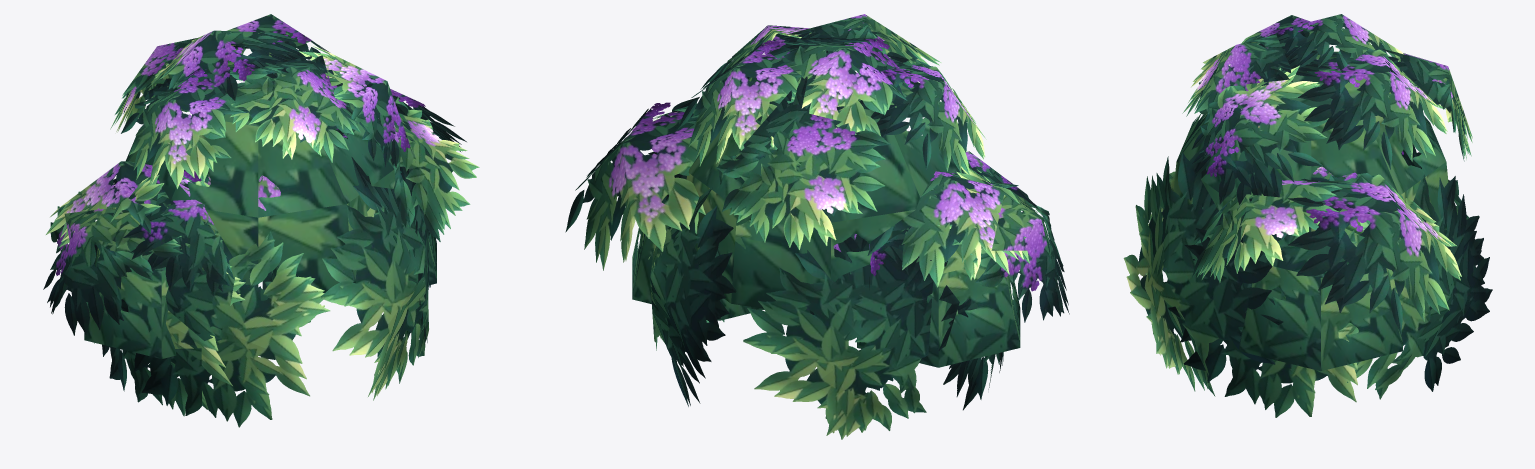
The model's file is shrub_bloom.glb.
3 renders of one model, left to right at view 1: azimuth 30°, elevation 25°; view 2: azimuth 150°, elevation 25°; view 3: azimuth 270°, elevation 25°, orthographic. The views are drawn at different scales.
Parts seen in each view (by area): view 1: shrub_bloom; view 2: shrub_bloom; view 3: shrub_bloom.
Part boxes in pixels (x1=…): shrub_bloom: x1=43, y1=14, x2=479, y2=427; shrub_bloom: x1=565, y1=14, x2=1069, y2=439; shrub_bloom: x1=1123, y1=14, x2=1492, y2=417.
Bounding box in the file's own units: 2.02 × 1.54 × 1.58.
1 material, 1 textured.
